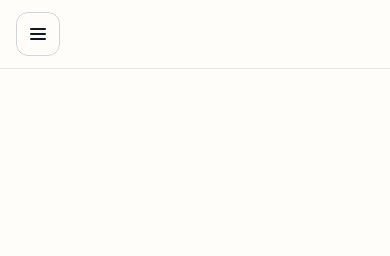
Test: TopBar: menu movil › acepta secciones propias del menu sin duplicar la navegacion de escritorio
The image size is (390, 256).
Click the button named "Abrir menú" at (38, 34), box [16,12,60,56]
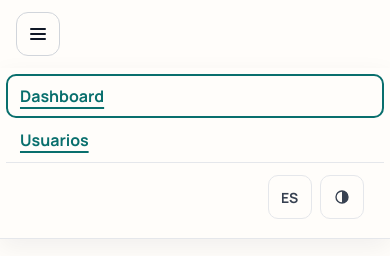
Result: the link "Dashboard" is shown at [20,85,104,107]
